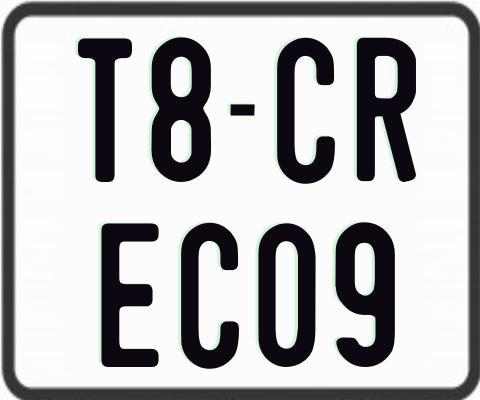0: (258, 222, 316, 370)
8: (151, 36, 214, 186)
9: (335, 219, 396, 367)
C: (178, 221, 238, 367), (274, 36, 333, 184)
E: (98, 220, 158, 364)
R: (357, 35, 419, 181)
T: (77, 37, 133, 183)
